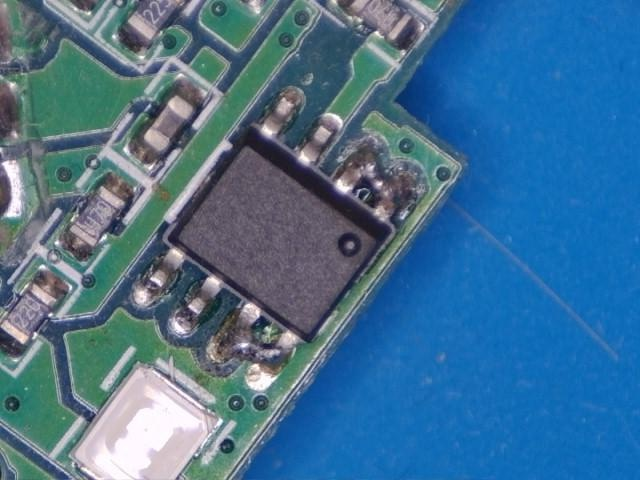pcb_defect: (210, 300, 301, 390), (334, 151, 413, 225)
